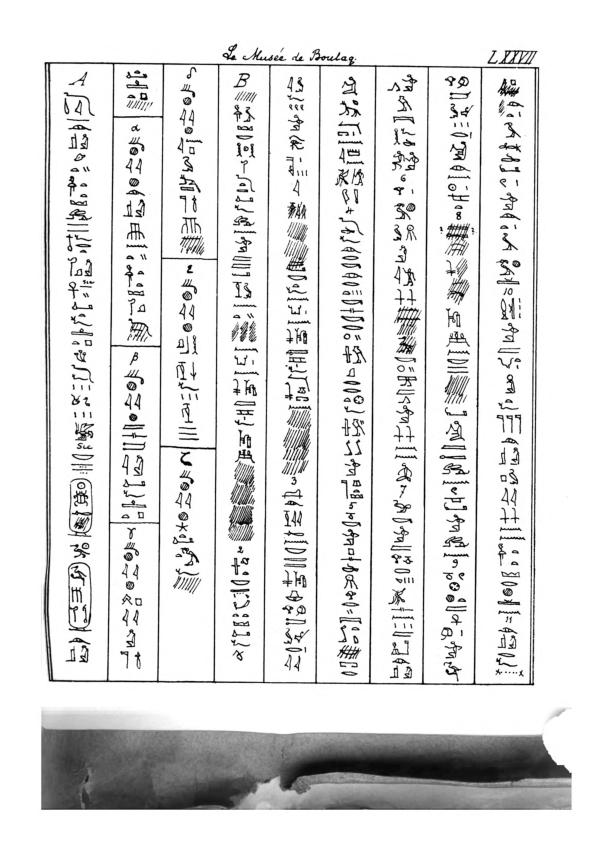circle: (65, 560, 95, 635), (65, 477, 94, 538)
